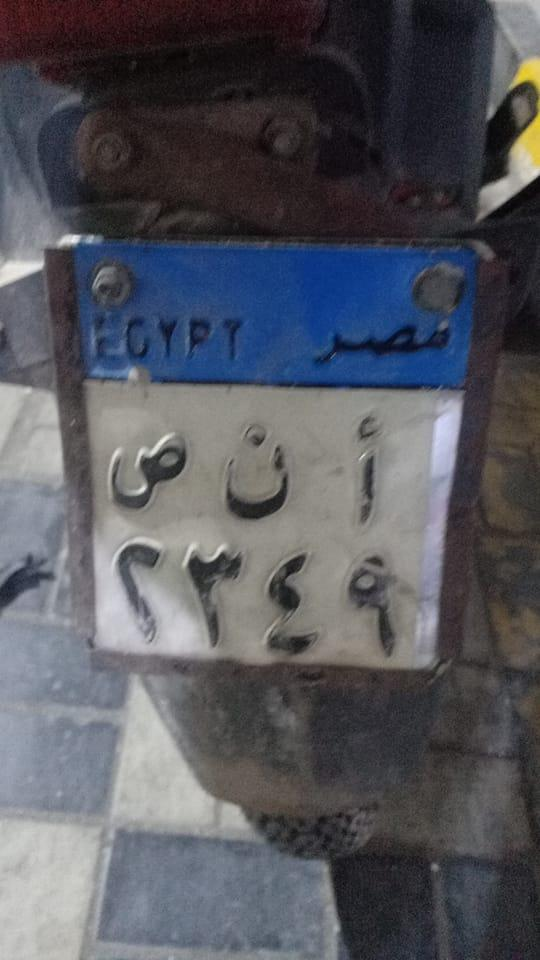License Plate: (62, 246, 444, 669)
